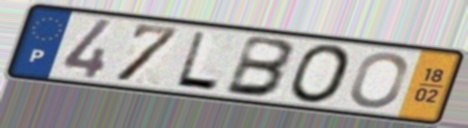4: (59, 16, 116, 82)
7: (115, 22, 182, 84)
B: (221, 33, 299, 99)
L: (172, 29, 222, 94)
O: (287, 43, 355, 106), (348, 50, 410, 110)
